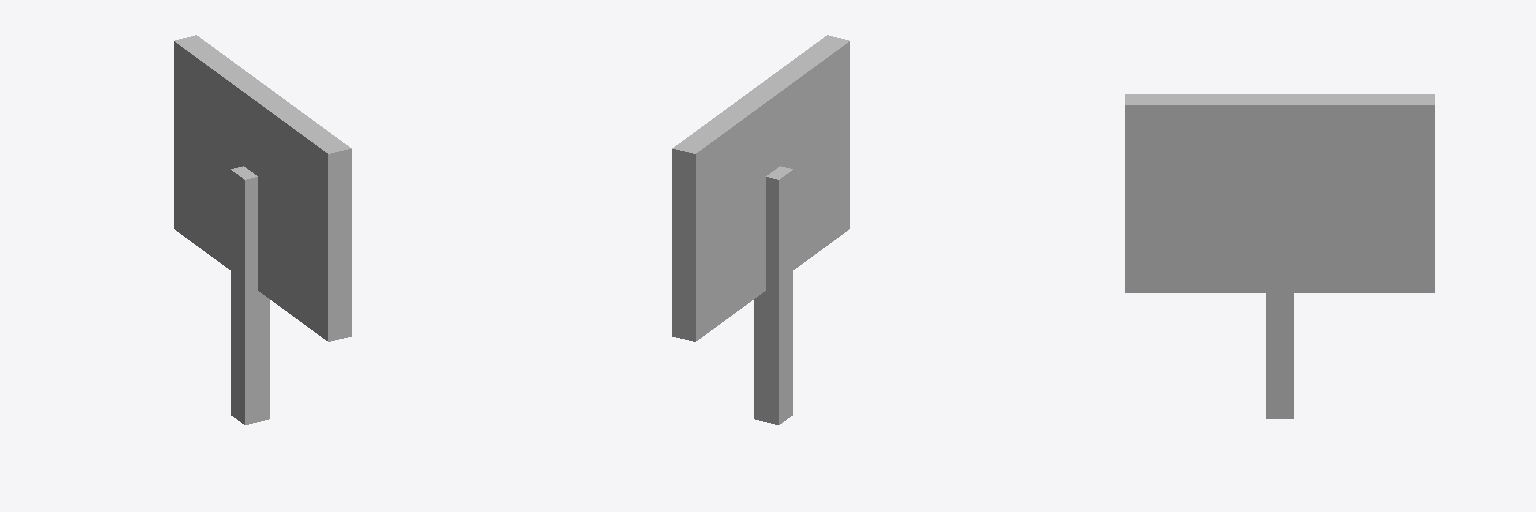
Rendered from semne.obj.
The picture shows the model from 3 angles: view 1: azimuth 30°, elevation 25°; view 2: azimuth 150°, elevation 25°; view 3: azimuth 270°, elevation 25°; orthographic projection.
Visible parts, largest first — view 1: Semn_Cube.001, Cube; view 2: Semn_Cube.001, Cube; view 3: Semn_Cube.001, Cube.
Boxes of the visible parts, <box> form: Semn_Cube.001: <box>174,35,351,341</box>; Cube: <box>231,166,269,424</box>; Semn_Cube.001: <box>672,35,849,341</box>; Cube: <box>754,166,792,424</box>; Semn_Cube.001: <box>1125,94,1434,292</box>; Cube: <box>1266,293,1293,418</box>.
Bounding box in the file's own units: 0.189 × 1.58 × 1.39.